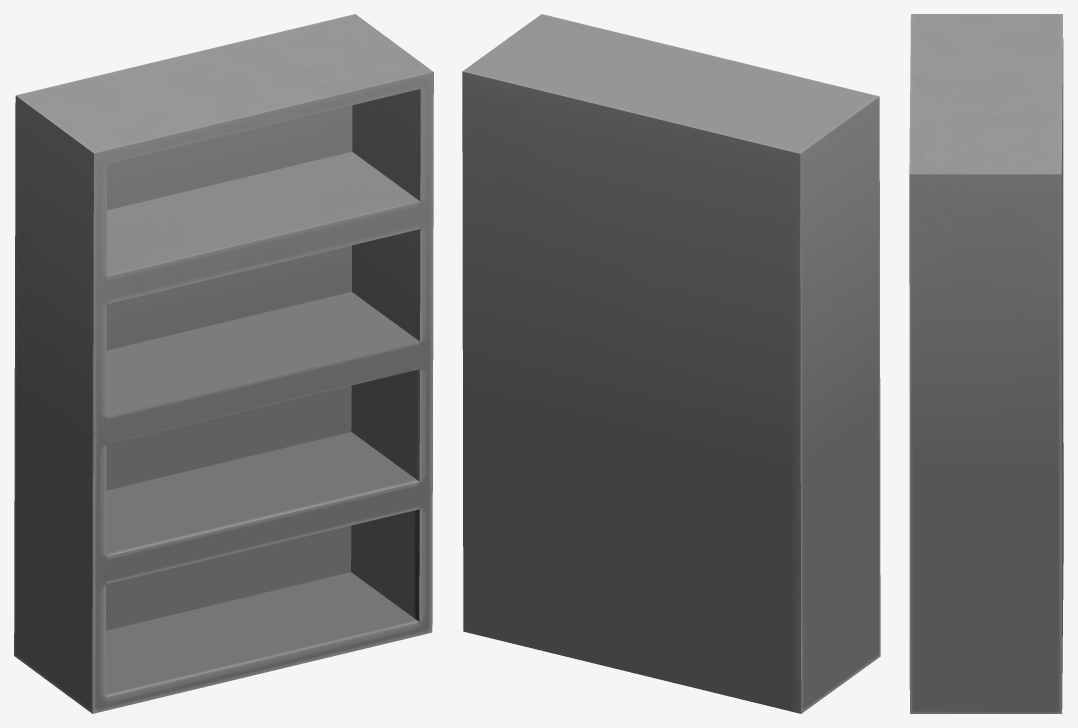
Rendered from SM_Prop_Laboratory_BookShelf.fbx.
3 renders of one model, left to right at view 1: azimuth 30°, elevation 25°; view 2: azimuth 150°, elevation 25°; view 3: azimuth 270°, elevation 25°, orthographic. The views are drawn at different scales.
Parts seen in each view (by area): view 1: SM_prop_Laboratory_BookCase_low; view 2: SM_prop_Laboratory_BookCase_low; view 3: SM_prop_Laboratory_BookCase_low.
Part boxes in pixels (x1=…): SM_prop_Laboratory_BookCase_low: x1=14, y1=14, x2=433, y2=713; SM_prop_Laboratory_BookCase_low: x1=462, y1=14, x2=880, y2=713; SM_prop_Laboratory_BookCase_low: x1=909, y1=14, x2=1063, y2=713.
Bounding box in the file's own units: 127 × 201 × 51.81.
1 material, 1 textured.
